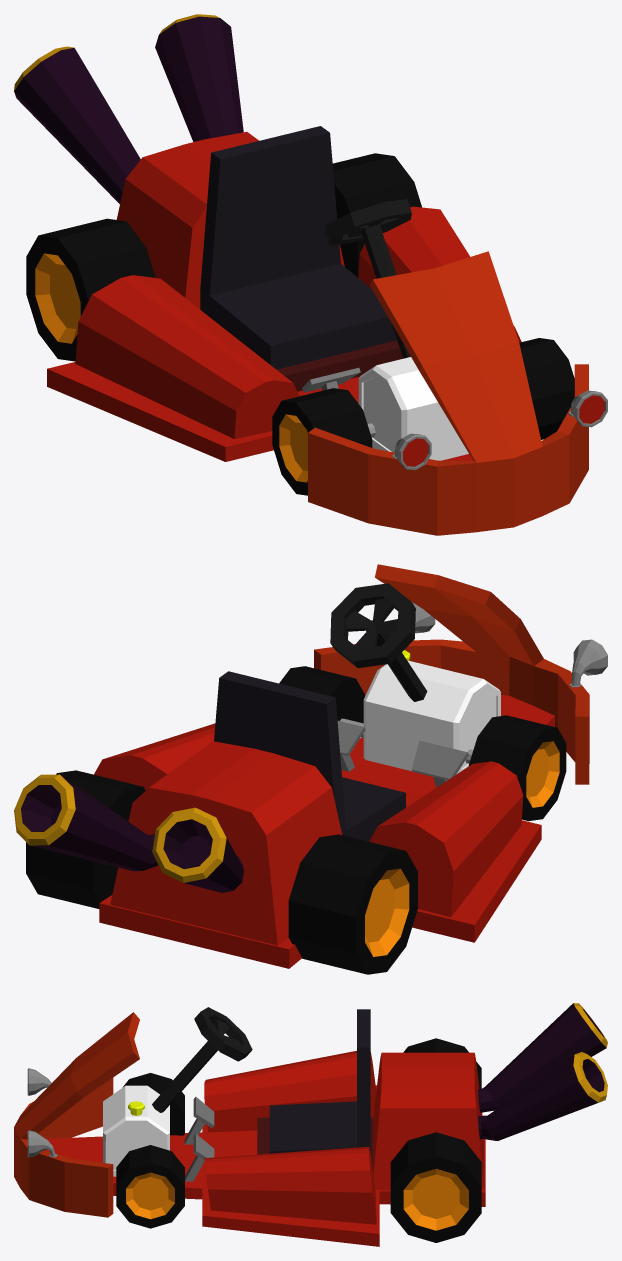
The model's file is Race_Orange.obj.
The picture shows the model from 3 angles, top to bottom: view 1: azimuth 30°, elevation 25°; view 2: azimuth 150°, elevation 25°; view 3: azimuth 270°, elevation 25°; orthographic projection. The views are drawn at different scales.
Parts seen in each view (by area): view 1: Lights_Kart1.019_Cylinder.050_Lights_Kart1.019_Cylinder.050_Ligh, Wheels1.003_Cylinder.006_Wheels1.003_Cylinder.006_Wheels1.003_Cy, Lights_Kart1.021_Cylinder.030_Lights_Kart1.021_Cylinder.030_Ligh, Wheels1.002_Cylinder.003_Wheels1.002_Cylinder.003_Wheels1.002_Cy, Wheels1_Cylinder.004_Wheels1_Cylinder.004_Wheels1_Cylinder.004_W, Lights_Kart1.018_Cylinder.049_Lights_Kart1.018_Cylinder.049_Ligh, Pedals1_Cylinder.007_Pedals1_Cylinder.007_Pedals1_Cylinder.007_P; view 2: Lights_Kart1.019_Cylinder.050_Lights_Kart1.019_Cylinder.050_Ligh, Wheels1.003_Cylinder.006_Wheels1.003_Cylinder.006_Wheels1.003_Cy, Lights_Kart1.018_Cylinder.049_Lights_Kart1.018_Cylinder.049_Ligh, Lights_Kart1.021_Cylinder.030_Lights_Kart1.021_Cylinder.030_Ligh, Wheels1.002_Cylinder.003_Wheels1.002_Cylinder.003_Wheels1.002_Cy, Pedals1_Cylinder.007_Pedals1_Cylinder.007_Pedals1_Cylinder.007_P, Wheels1_Cylinder.004_Wheels1_Cylinder.004_Wheels1_Cylinder.004_W; view 3: Lights_Kart1.019_Cylinder.050_Lights_Kart1.019_Cylinder.050_Ligh, Wheels1.002_Cylinder.003_Wheels1.002_Cylinder.003_Wheels1.002_Cy, Wheels1_Cylinder.004_Wheels1_Cylinder.004_Wheels1_Cylinder.004_W, Lights_Kart1.018_Cylinder.049_Lights_Kart1.018_Cylinder.049_Ligh, Pedals1_Cylinder.007_Pedals1_Cylinder.007_Pedals1_Cylinder.007_P, Lights_Kart1.021_Cylinder.030_Lights_Kart1.021_Cylinder.030_Ligh, Wheels1.003_Cylinder.006_Wheels1.003_Cylinder.006_Wheels1.003_Cy.
Boxes of the visible parts, x1,y1,x2,y2 form: Lights_Kart1.019_Cylinder.050_Lights_Kart1.019_Cylinder.050_Ligh: [14, 14, 607, 535]; Wheels1.003_Cylinder.006_Wheels1.003_Cylinder.006_Wheels1.003_Cy: [26, 218, 155, 361]; Lights_Kart1.021_Cylinder.030_Lights_Kart1.021_Cylinder.030_Ligh: [272, 388, 372, 495]; Wheels1.002_Cylinder.003_Wheels1.002_Cylinder.003_Wheels1.002_Cy: [332, 153, 421, 277]; Wheels1_Cylinder.004_Wheels1_Cylinder.004_Wheels1_Cylinder.004_W: [519, 338, 574, 439]; Lights_Kart1.018_Cylinder.049_Lights_Kart1.018_Cylinder.049_Ligh: [324, 199, 411, 358]; Pedals1_Cylinder.007_Pedals1_Cylinder.007_Pedals1_Cylinder.007_P: [302, 367, 360, 392]; Lights_Kart1.019_Cylinder.050_Lights_Kart1.019_Cylinder.050_Ligh: [14, 564, 607, 968]; Wheels1.003_Cylinder.006_Wheels1.003_Cylinder.006_Wheels1.003_Cy: [288, 834, 417, 974]; Lights_Kart1.018_Cylinder.049_Lights_Kart1.018_Cylinder.049_Ligh: [330, 583, 427, 701]; Lights_Kart1.021_Cylinder.030_Lights_Kart1.021_Cylinder.030_Ligh: [468, 715, 566, 821]; Wheels1.002_Cylinder.003_Wheels1.002_Cylinder.003_Wheels1.002_Cy: [26, 770, 145, 908]; Pedals1_Cylinder.007_Pedals1_Cylinder.007_Pedals1_Cylinder.007_P: [337, 720, 468, 787]; Wheels1_Cylinder.004_Wheels1_Cylinder.004_Wheels1_Cylinder.004_W: [279, 666, 364, 723]; Lights_Kart1.019_Cylinder.050_Lights_Kart1.019_Cylinder.050_Ligh: [14, 1003, 607, 1246]; Wheels1.002_Cylinder.003_Wheels1.002_Cylinder.003_Wheels1.002_Cy: [390, 1132, 481, 1242]; Wheels1_Cylinder.004_Wheels1_Cylinder.004_Wheels1_Cylinder.004_W: [116, 1145, 184, 1228]; Lights_Kart1.018_Cylinder.049_Lights_Kart1.018_Cylinder.049_Ligh: [152, 1007, 252, 1112]; Pedals1_Cylinder.007_Pedals1_Cylinder.007_Pedals1_Cylinder.007_P: [184, 1097, 214, 1181]; Lights_Kart1.021_Cylinder.030_Lights_Kart1.021_Cylinder.030_Ligh: [122, 1073, 184, 1135]; Wheels1.003_Cylinder.006_Wheels1.003_Cylinder.006_Wheels1.003_Cy: [403, 1038, 481, 1089].
Bounding box in the file's own units: 10.53 × 5.62 × 17.74.
